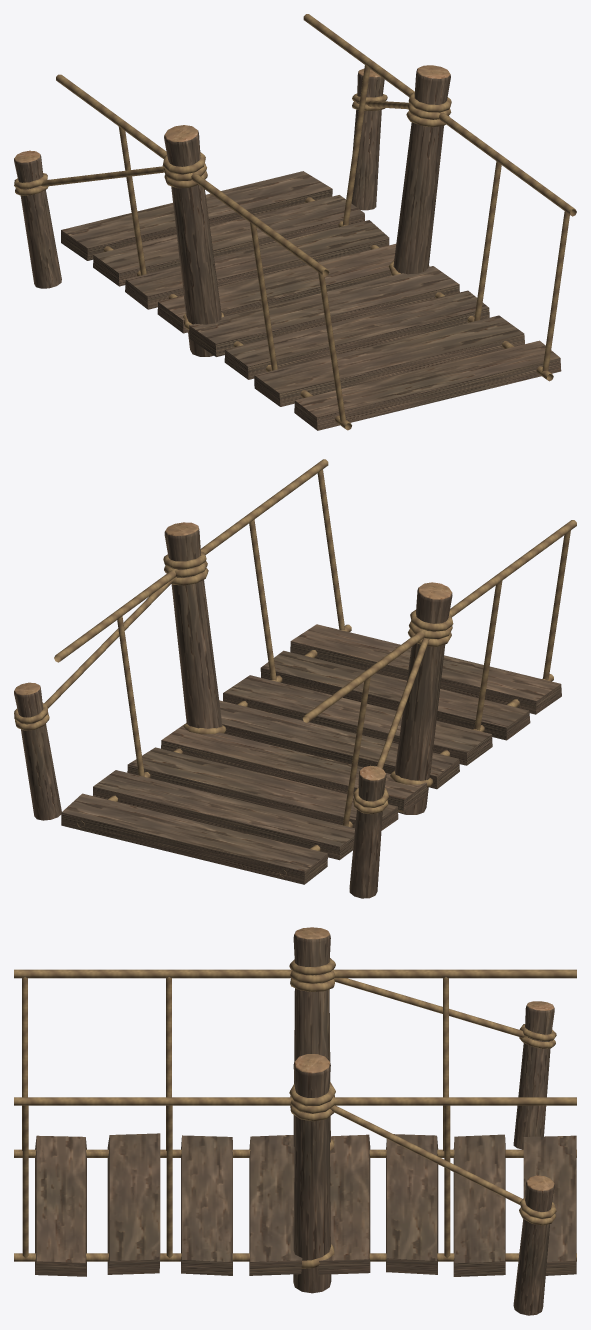
Rendered from Bridge.fbx.
The picture shows the model from 3 angles, top to bottom: view 1: azimuth 30°, elevation 25°; view 2: azimuth 150°, elevation 25°; view 3: azimuth 270°, elevation 25°; orthographic projection. The views are drawn at different scales.
Parts seen in each view (by area): view 1: BridgeMidSection, BridgeAnchors; view 2: BridgeMidSection, BridgeAnchors; view 3: BridgeMidSection, BridgeAnchors.
Part boxes in pixels (left/top/right/bottom): BridgeMidSection: left=56, top=14, right=576, bottom=430; BridgeAnchors: left=14, top=65, right=451, bottom=356; BridgeMidSection: left=54, top=459, right=576, bottom=884; BridgeAnchors: left=14, top=522, right=453, bottom=898; BridgeMidSection: left=14, top=969, right=576, bottom=1276; BridgeAnchors: left=289, top=927, right=556, bottom=1315.
Size of what is drawn, in the model's own units: 2.59 by 1.51 by 3.24.
Materials: 1 (1 with a texture image).
